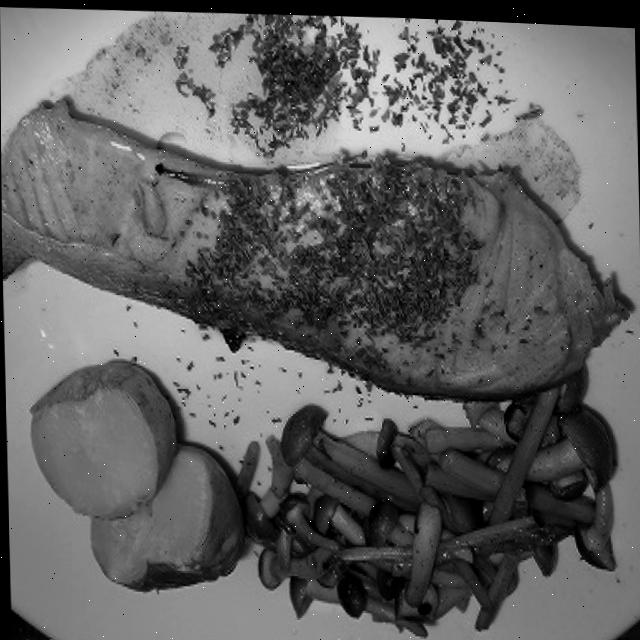熟制海鲜: (0, 75, 640, 415)
